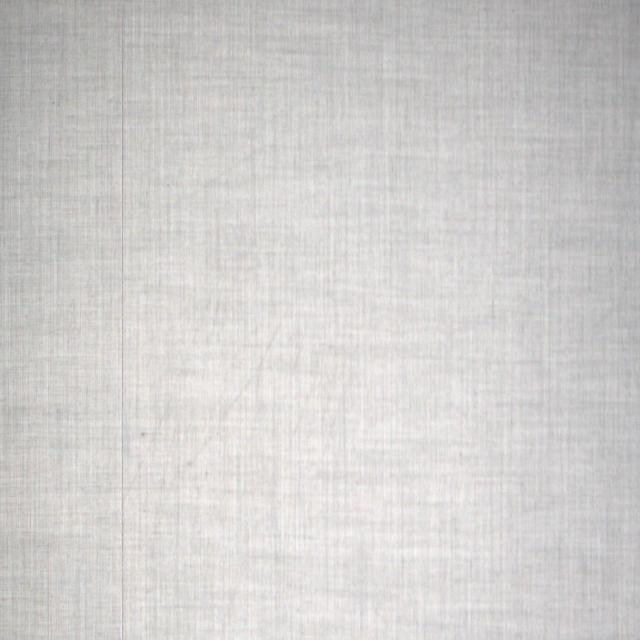dirty: (187, 458, 191, 466), (205, 469, 208, 476), (141, 432, 145, 436)
